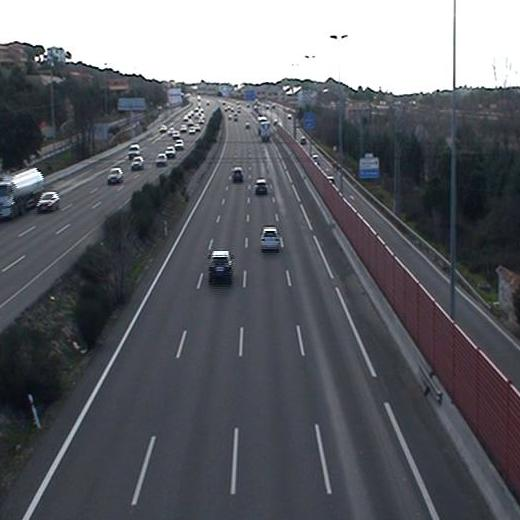car: (202, 245, 238, 287), (255, 223, 286, 254), (250, 176, 271, 198), (229, 165, 245, 185)
truck: (257, 120, 275, 145)
